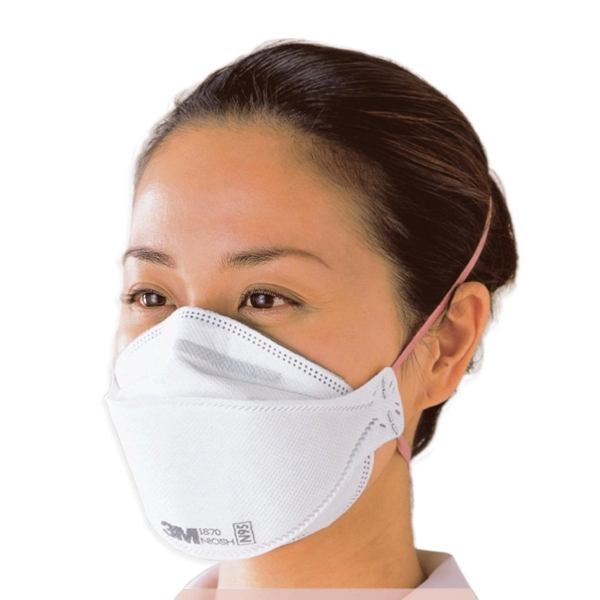Mask: (106, 121, 486, 560)
